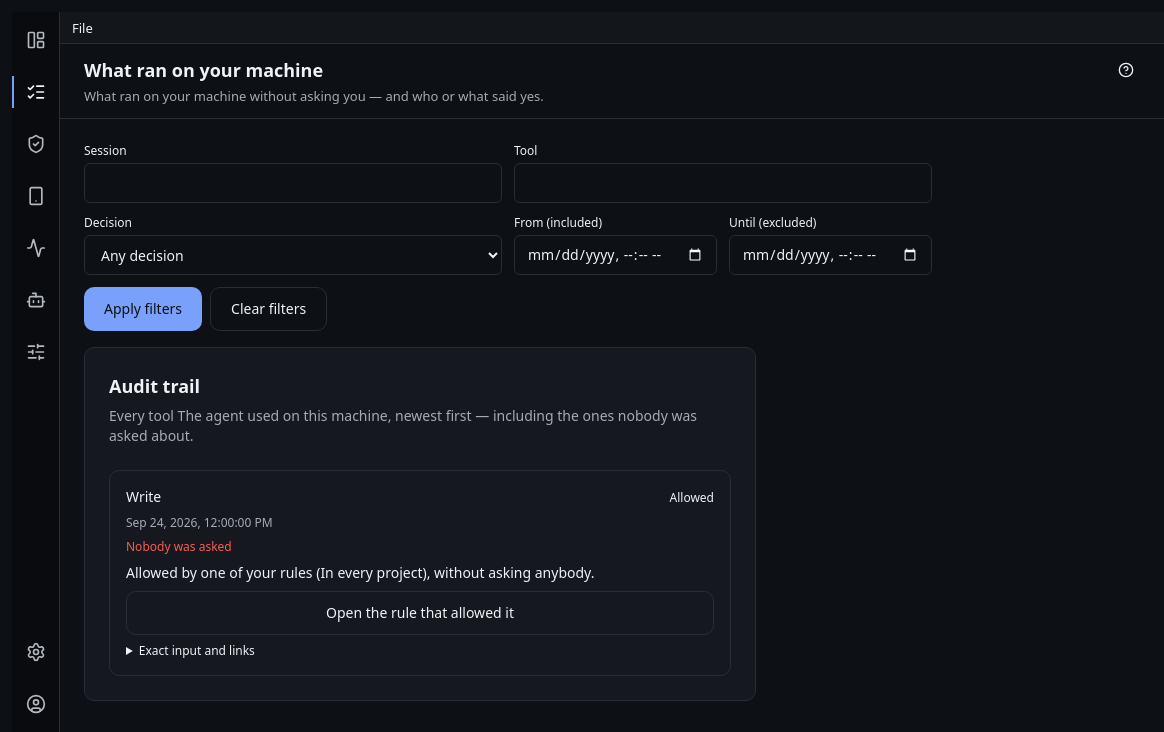
Test: the audit route › opens the rule behind an entry, and shows it revoked with the state explained — S-50
The width and height of the screenshot is (1164, 732).
Click the button "Open the rule that allowed it". click: (420, 613)
box: [126,591,714,635]
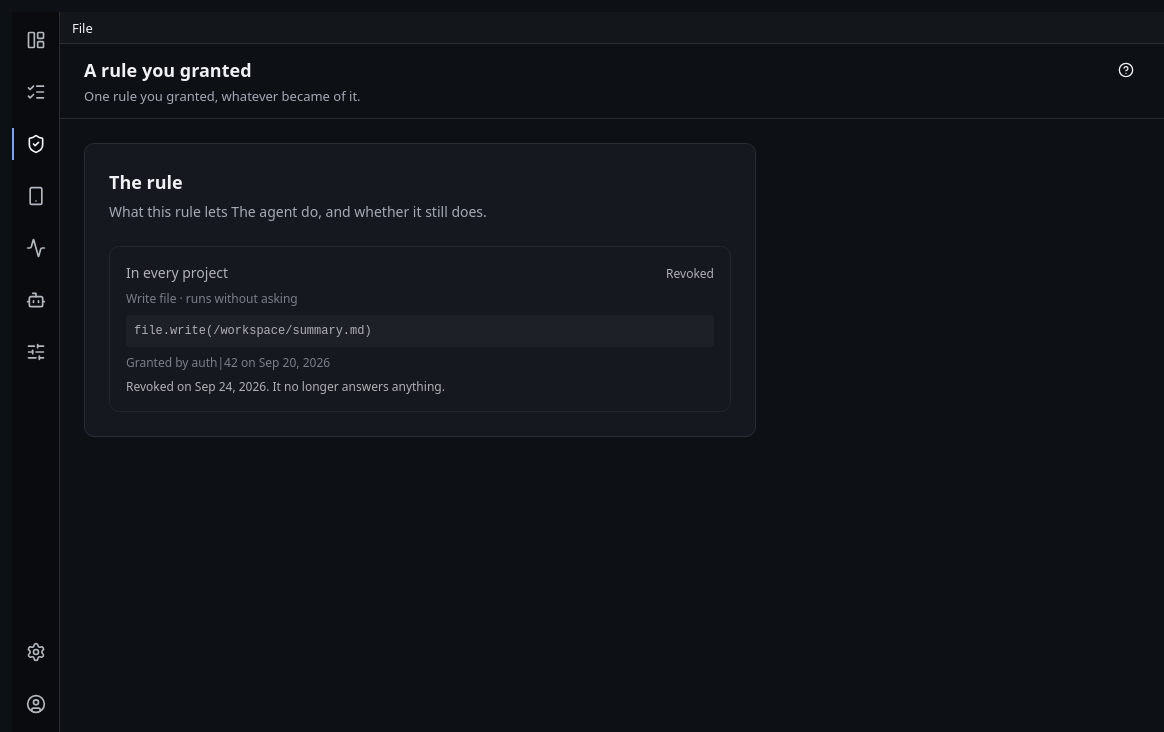
Now the text "Revoked" is shown, box [666,266,714,282]
Now the heading "A rule you granted" is shown, box [84,58,252,82]
